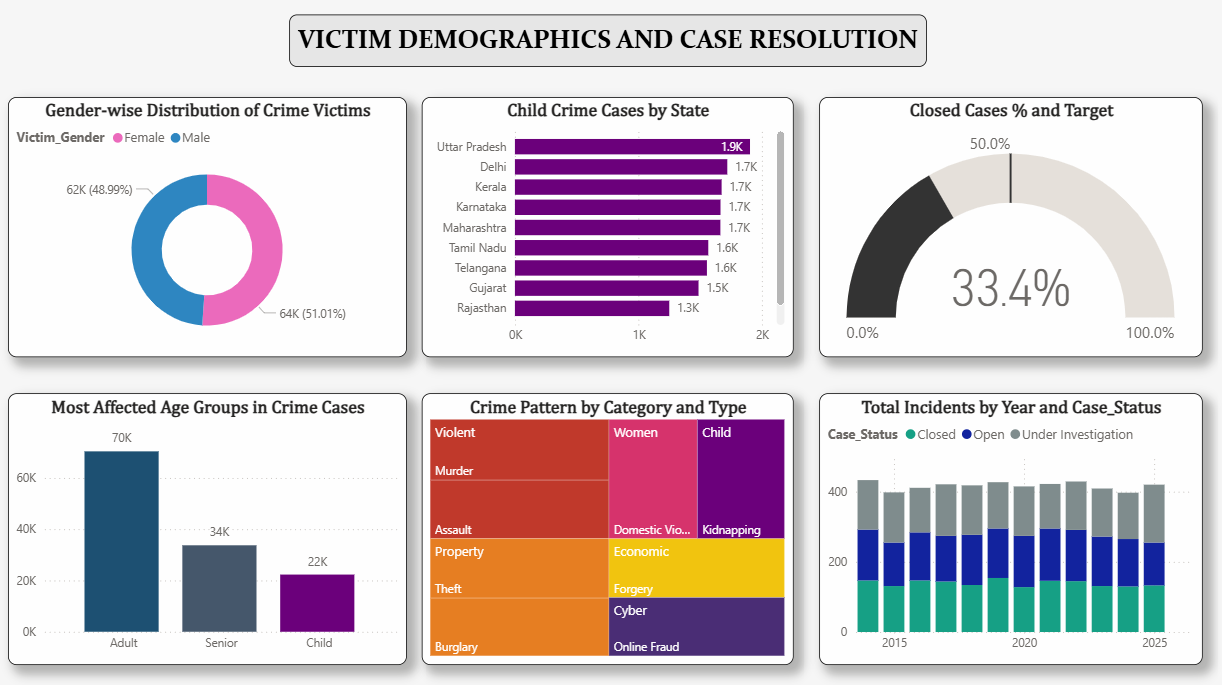

The page's visual inventory and layout, read from the dashboard file:
{"tool":"powerbi","page":{"name":"Demographics","canvas":[1280,720],"ordinal":1},"visuals":[{"type":"donutChart","title":"Gender-wise Distribution of Crime Victims","fields":{"Category":["Crimes.Victim_Gender"],"Y":["Crimes.Total Cases Reported"]},"box":[16,104,414,270],"z":0},{"type":"clusteredColumnChart","title":"Most Affected Age Groups in Crime Cases","fields":{"Category":["Crimes.Age_Group"],"Y":["Crimes.Total Cases Reported"]},"box":[16,412,414,282],"z":1000},{"type":"textbox","box":[308,18,662,54],"z":2000},{"type":"barChart","fields":{"Category":["Crimes.State"],"Y":["Crimes.Child Crime Cases"]},"box":[446,104,386,270],"z":3000},{"type":"treemap","title":"Crime Pattern by Category and Type","fields":{"Group":["Crimes.Crime_Category"],"Details":["Crimes.Crime_Type"],"Values":["Crimes.Total Cases Reported"]},"box":[446,412,386,282],"z":4000},{"type":"columnChart","fields":{"Category":["DateTable.Year"],"Series":["Crimes.Case_Status"],"Y":["Crimes.Total Incidents"]},"box":[858,412,398,282],"z":5000},{"type":"gauge","fields":{"Y":["Crimes.Closed Cases %"],"TargetValue":["Crimes.Target"]},"box":[858,104,398,270],"z":6000}]}

Visuals, with their boxes in screenshot pixels (x1, y1, x2, y2), scaled from the page's 1280x720 canvas onto the 1222x685 screenshot:
"Gender-wise Distribution of Crime Victims" donutChart: left=15, top=99, right=411, bottom=356
"Most Affected Age Groups in Crime Cases" clusteredColumnChart: left=15, top=392, right=411, bottom=660
textbox: left=294, top=17, right=926, bottom=68
barChart - Crimes.State x Crimes.Child Crime Cases: left=426, top=99, right=794, bottom=356
"Crime Pattern by Category and Type" treemap: left=426, top=392, right=794, bottom=660
columnChart - DateTable.Year x Crimes.Case_Status: left=819, top=392, right=1199, bottom=660
gauge - Crimes.Closed Cases % x Crimes.Target: left=819, top=99, right=1199, bottom=356
